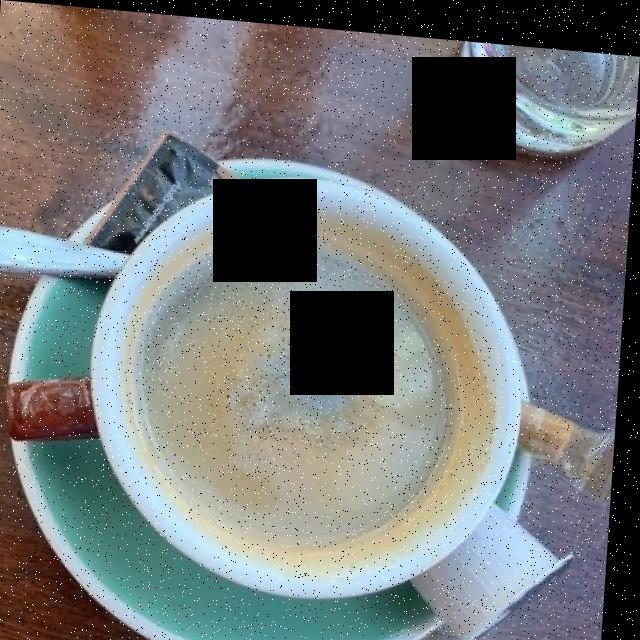coffee: (154, 239, 462, 541)
